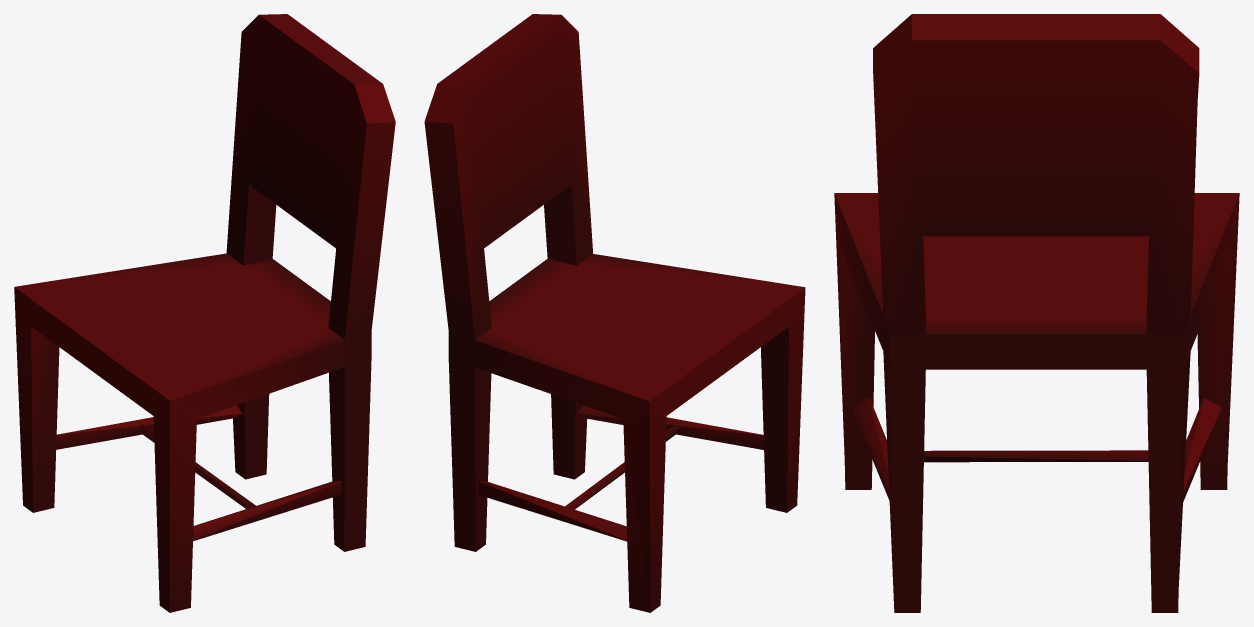
File: Chair.fbx
3 views of the same model, side by side, from view 1: azimuth 30°, elevation 25°; view 2: azimuth 150°, elevation 25°; view 3: azimuth 270°, elevation 25° (orthographic). The views are drawn at different scales.
Parts seen in each view (by area): view 1: Chair.007; view 2: Chair.007; view 3: Chair.007.
Part boxes in pixels (x1=…): Chair.007: x1=14, y1=14, x2=395, y2=612; Chair.007: x1=424, y1=14, x2=805, y2=612; Chair.007: x1=834, y1=14, x2=1239, y2=612.
Size of the model in its own units: 63.03 by 56.76 by 102.
